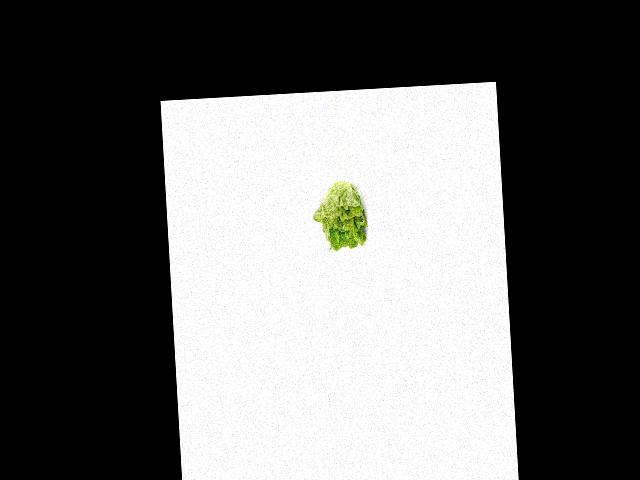lettuce: (312, 179, 372, 251)
